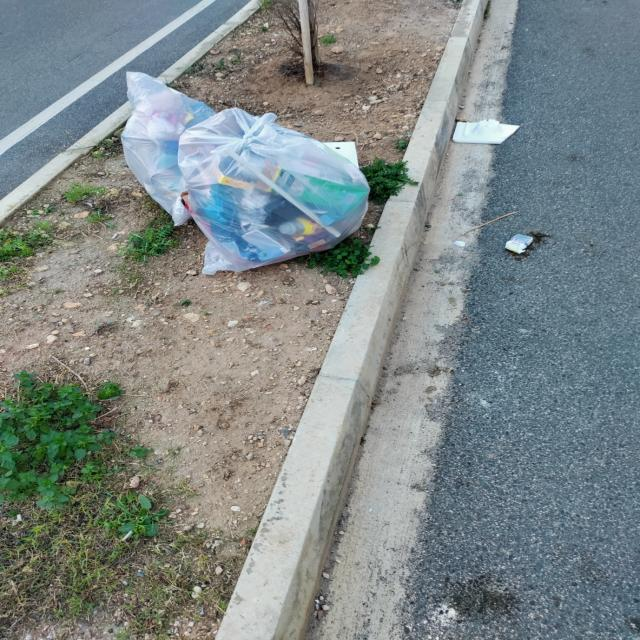Recyclable Material: (187, 103, 369, 279), (118, 70, 219, 225)
